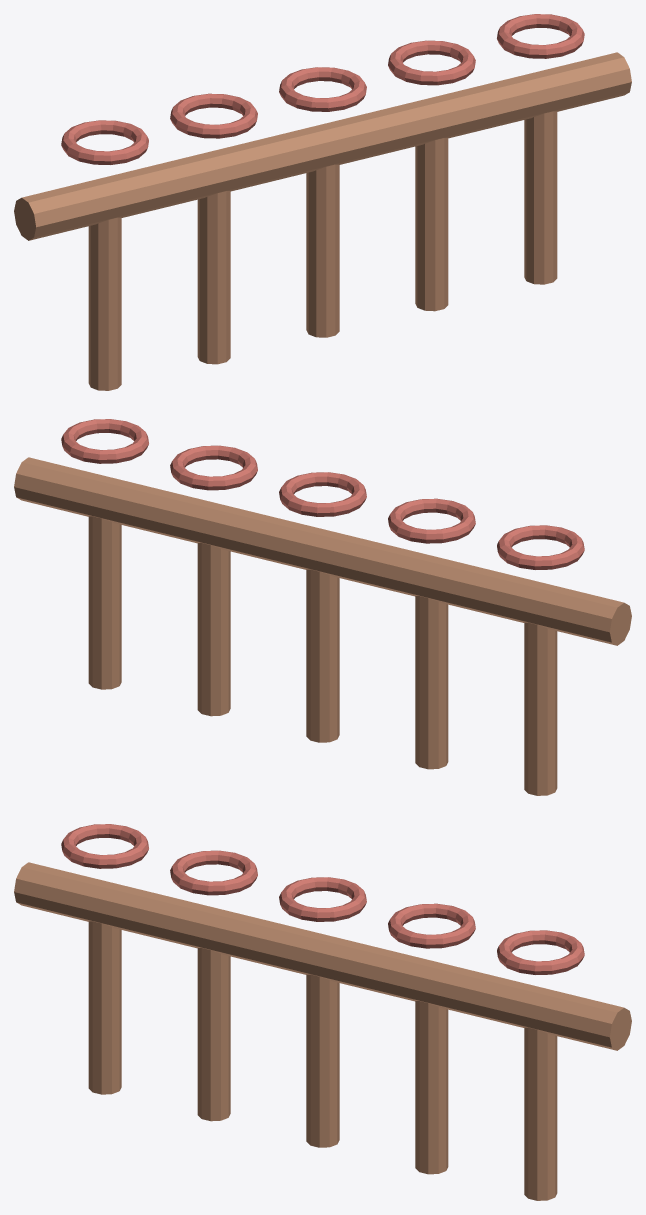
File: pipe_manifold_02.glb
3 views of the same model, one above another, from view 1: azimuth 30°, elevation 25°; view 2: azimuth 150°, elevation 25°; view 3: azimuth 330°, elevation 25° (orthographic).
Parts seen in each view (by area): view 1: main, branch4, branch2, branch1, branch0, branch3, valve3, valve1, valve0, valve2, valve4; view 2: main, branch4, branch2, branch1, branch0, branch3, valve3, valve1, valve0, valve2, valve4; view 3: main, branch0, branch2, branch3, branch1, branch4, valve1, valve3, valve4, valve2, valve0.
Boxes of the visible parts, x1,y1,x2,y2 form: main: (14,52,631,240); branch4: (524,111,557,284); branch2: (306,164,339,337); branch1: (197,191,230,364); branch0: (88,217,121,390); branch3: (415,138,448,311); valve3: (388,40,475,85); valve1: (170,93,257,138); valve0: (61,120,148,164); valve2: (279,67,366,111); valve4: (497,14,584,58); main: (14,457,631,645); branch4: (88,516,121,689); branch2: (306,569,339,742); branch1: (415,596,448,769); branch0: (524,622,557,795); branch3: (197,543,230,716); valve3: (170,445,257,490); valve1: (388,498,475,543); valve0: (497,525,584,569); valve2: (279,472,366,516); valve4: (61,419,148,463); main: (14,862,631,1050); branch0: (88,921,121,1094); branch2: (306,974,339,1147); branch3: (415,1001,448,1174); branch1: (197,948,230,1121); branch4: (524,1027,557,1200); valve1: (170,850,257,895); valve3: (388,903,475,948); valve4: (497,930,584,974); valve2: (279,877,366,921); valve0: (61,824,148,868).
Size of the model in its own units: 1.86 by 0.74 by 0.24.
